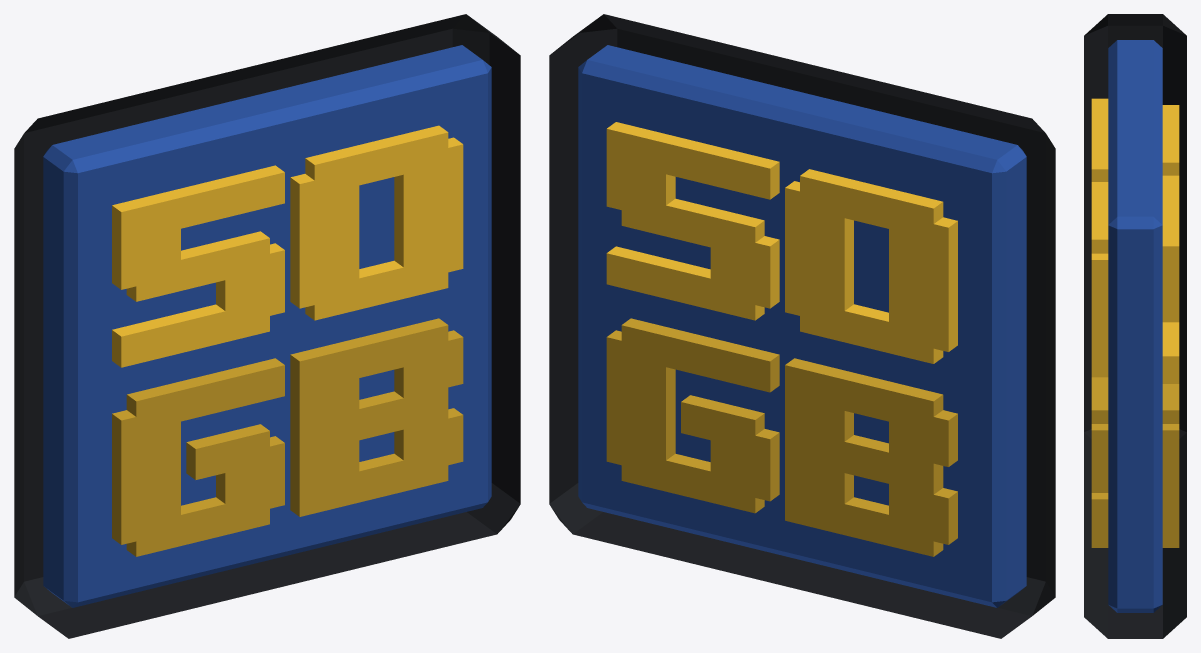
The model's file is target02.fbx.
3 renders of one model, left to right at view 1: azimuth 30°, elevation 25°; view 2: azimuth 150°, elevation 25°; view 3: azimuth 270°, elevation 25°, orthographic. The views are drawn at different scales.
Parts seen in each view (by area): view 1: target02; view 2: target02; view 3: target02.
Part boxes in pixels (bbox=[...]): target02: bbox=[14, 14, 520, 638]; target02: bbox=[549, 14, 1055, 638]; target02: bbox=[1084, 14, 1186, 638].
Bounding box in the file's own units: 8.88 × 8.88 × 1.88.
